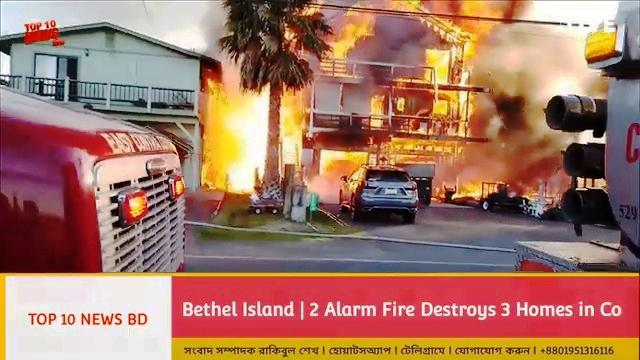fire: (212, 77, 293, 178), (322, 6, 373, 55), (325, 147, 369, 169), (430, 51, 451, 79)
smoke: (489, 26, 540, 160)
